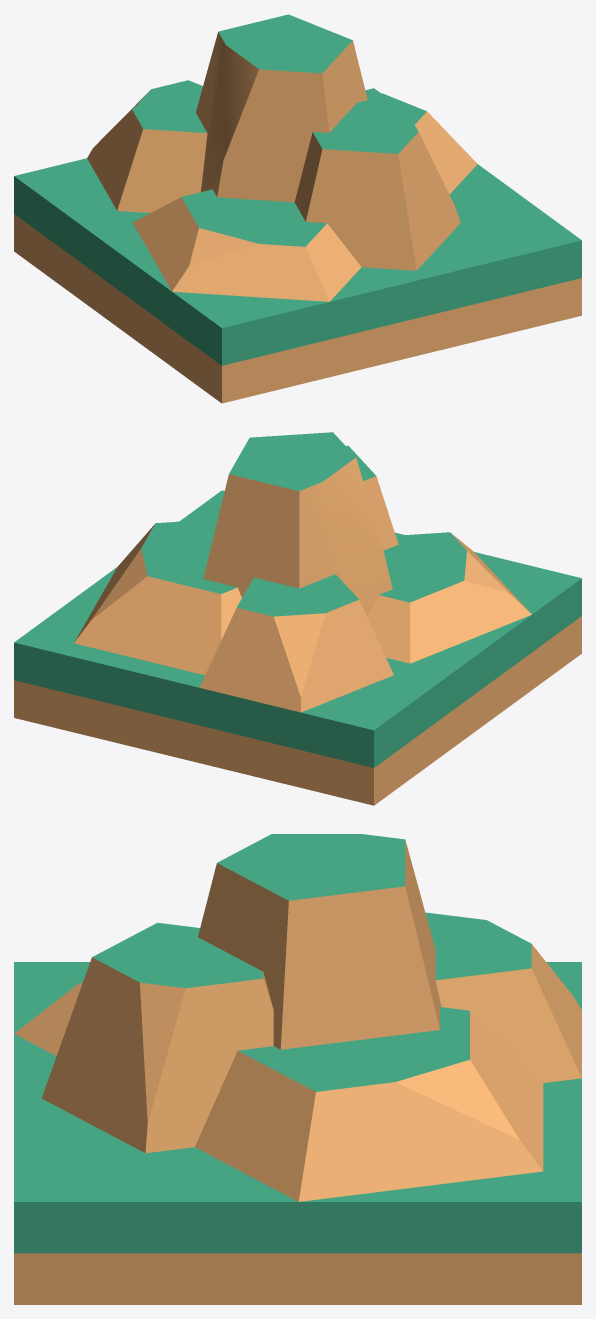
Rendered from tile_rock.fbx.
3 views of the same model, one above another, from view 1: azimuth 30°, elevation 25°; view 2: azimuth 150°, elevation 25°; view 3: azimuth 270°, elevation 25° (orthographic). The views are drawn at different scales.
Visible parts, largest first — view 1: rocks, tile_rock; view 2: rocks, tile_rock; view 3: rocks, tile_rock.
Boxes of the visible parts, box(x1,y1,x2,y2) form: rocks: box(87, 14, 477, 301); tile_rock: box(14, 88, 581, 403); rocks: box(74, 432, 531, 712); tile_rock: box(14, 490, 581, 805); rocks: box(14, 834, 581, 1201); tile_rock: box(14, 962, 581, 1304).
Bounding box in the file's own units: 10 × 6.19 × 10.
